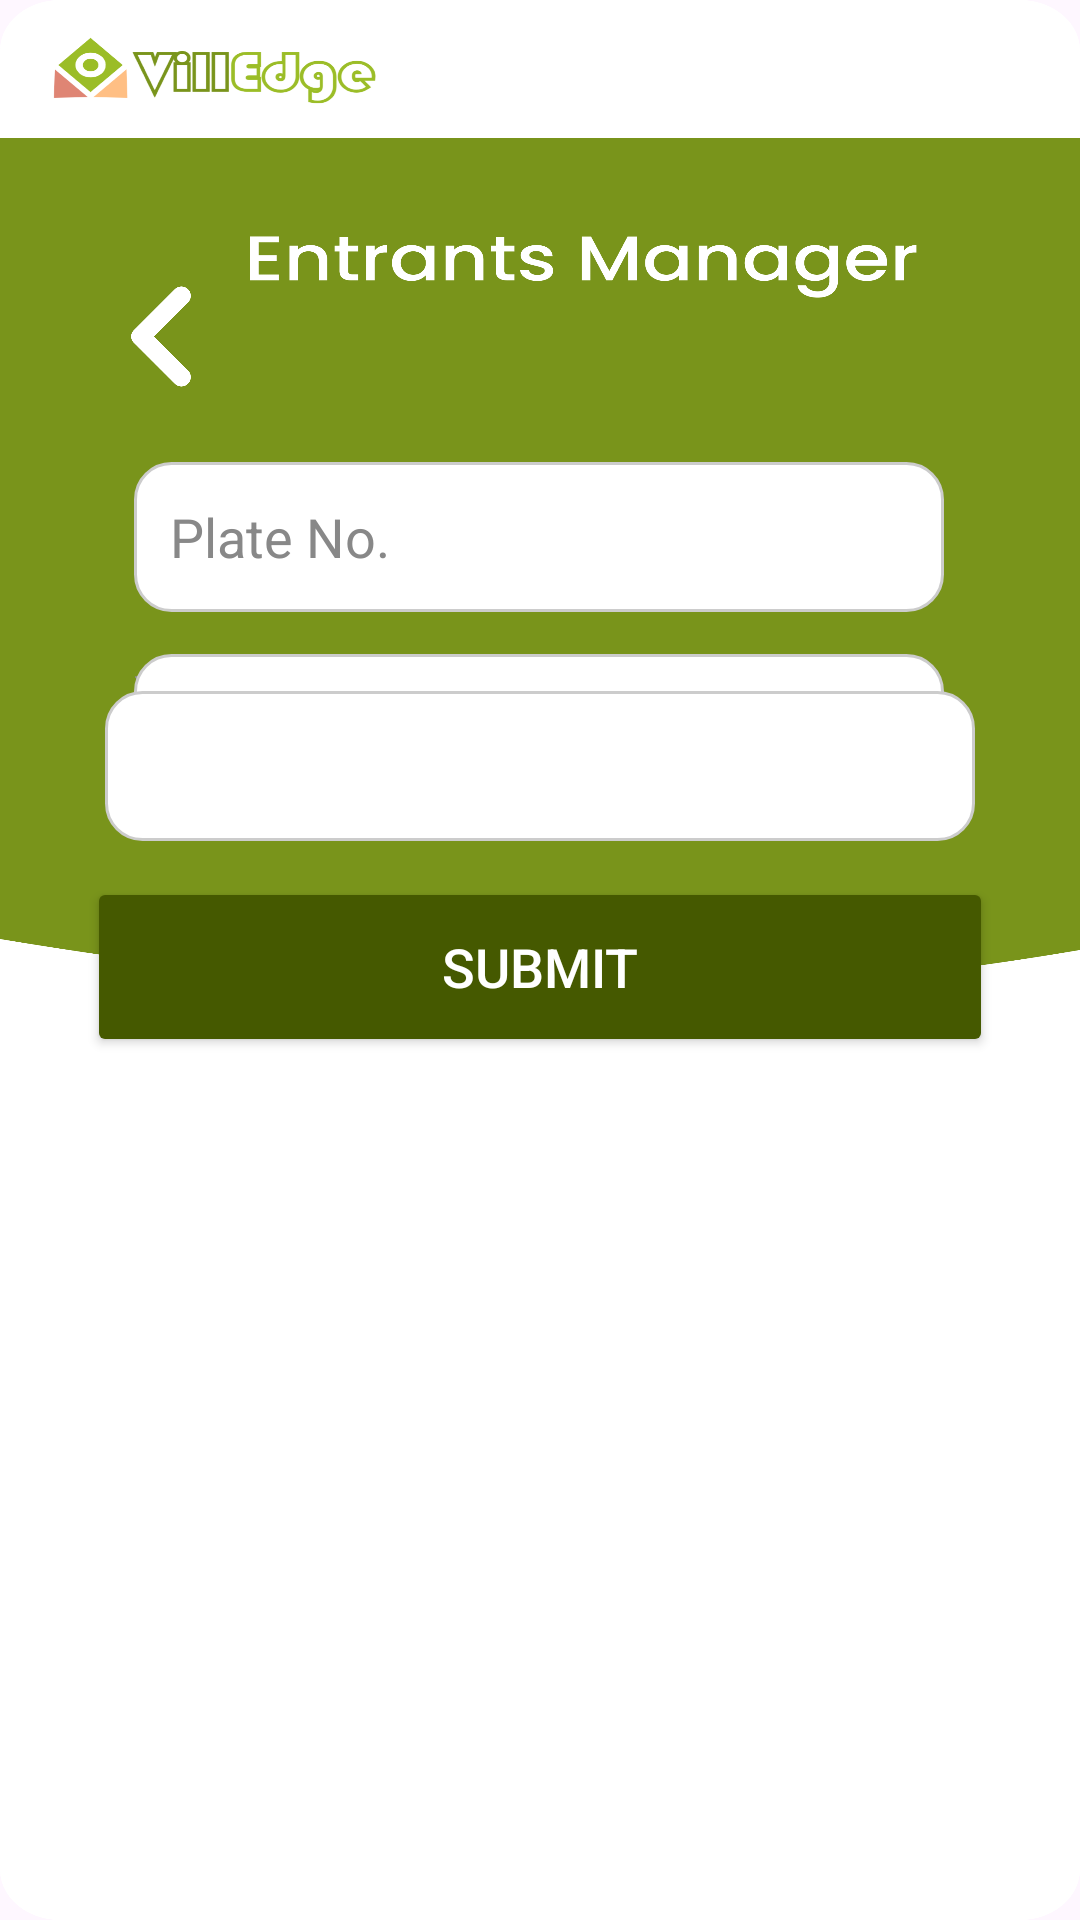

Named icons in this screenshot (1080px x 1920px) and their centers, (x=x, y=y):
backbutton: (x=161, y=336)
